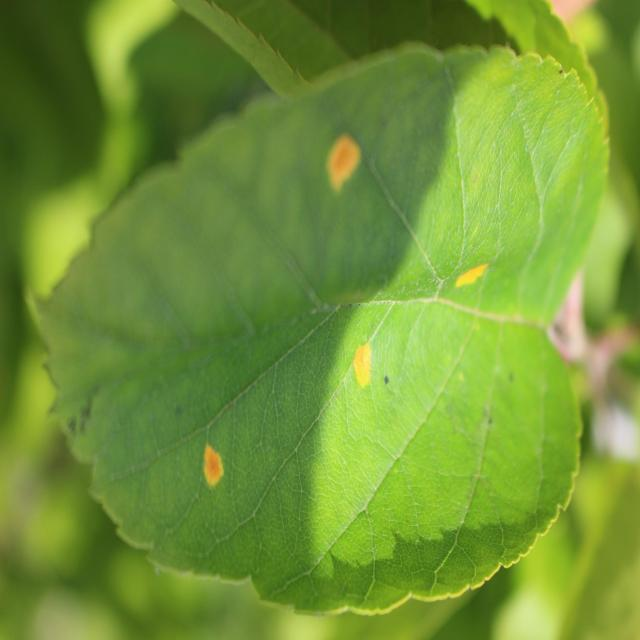Rust: (341, 301, 386, 426), (320, 111, 370, 218), (194, 416, 238, 512), (438, 247, 506, 305)
